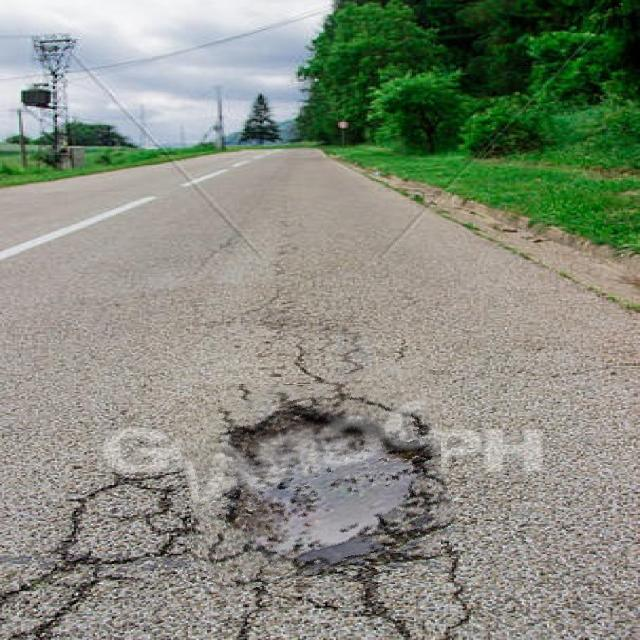Pothole: (182, 370, 452, 582)
